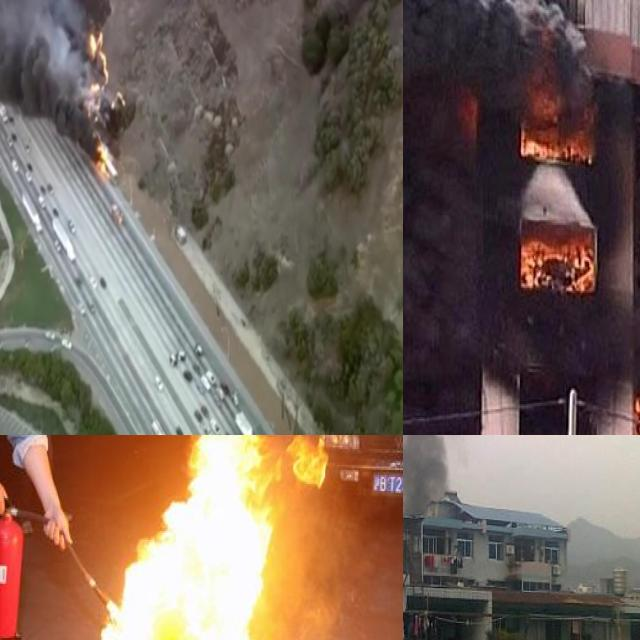fire: (98, 435, 288, 640), (518, 86, 596, 162), (518, 227, 594, 291), (88, 27, 107, 81), (93, 139, 111, 180)
smoke: (403, 0, 640, 393), (403, 435, 625, 511), (0, 0, 110, 149)
